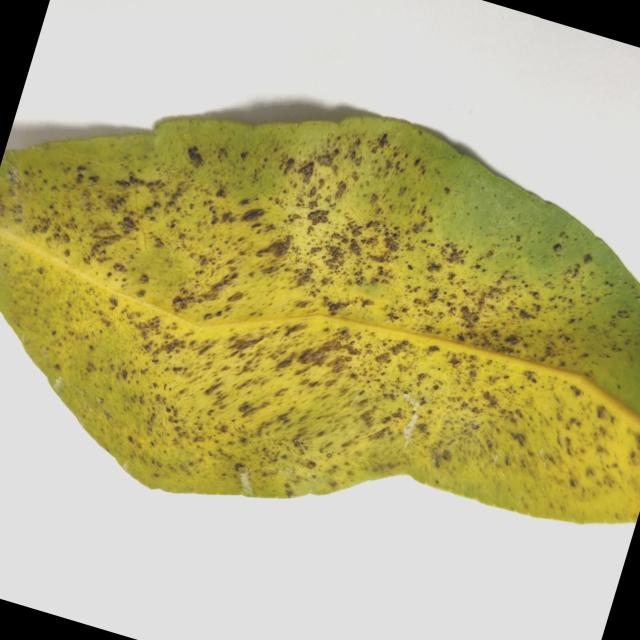melanose: (0, 117, 640, 523)
